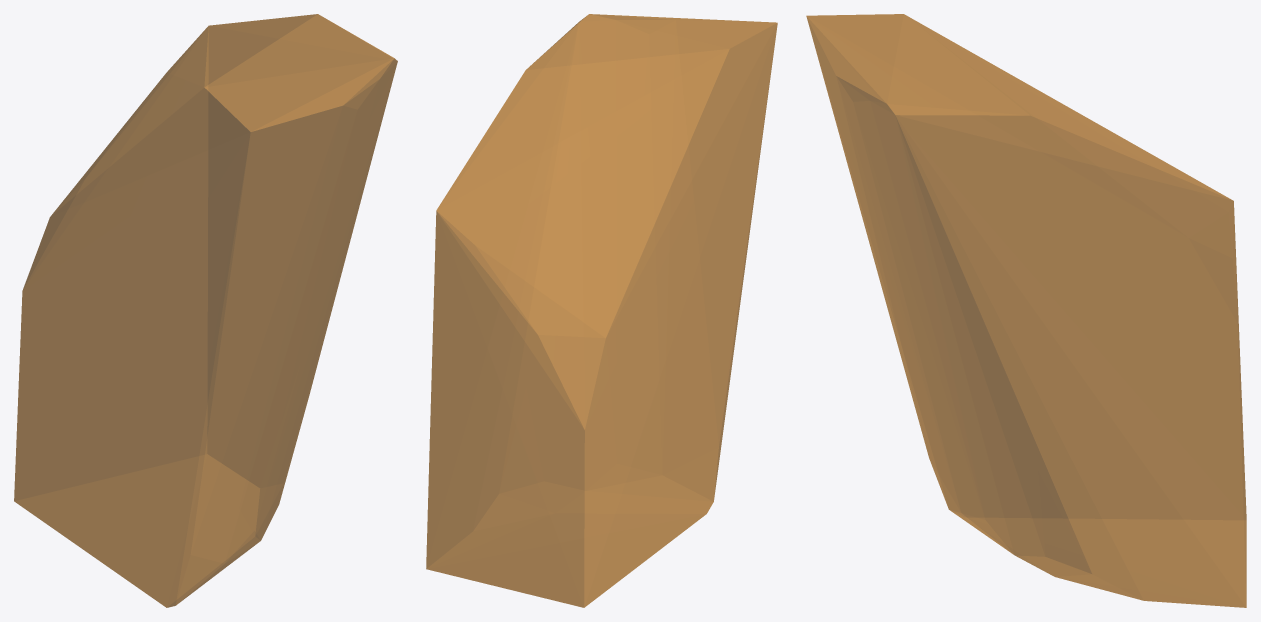
3 views of the same model, side by side, from view 1: azimuth 30°, elevation 25°; view 2: azimuth 150°, elevation 25°; view 3: azimuth 270°, elevation 25° (orthographic). The views are drawn at different scales.
Visible parts, largest first — view 1: Shape_IndexedFaceSet.011_Shape_IndexedFaceSet.12282; view 2: Shape_IndexedFaceSet.011_Shape_IndexedFaceSet.12282; view 3: Shape_IndexedFaceSet.011_Shape_IndexedFaceSet.12282.
Part boxes in pixels (<box>): Shape_IndexedFaceSet.011_Shape_IndexedFaceSet.12282: <box>14,14,397,607</box>; Shape_IndexedFaceSet.011_Shape_IndexedFaceSet.12282: <box>426,14,777,607</box>; Shape_IndexedFaceSet.011_Shape_IndexedFaceSet.12282: <box>806,14,1246,607</box>.
Bounding box in the file's own units: 0.2169 × 0.5811 × 0.4556.
